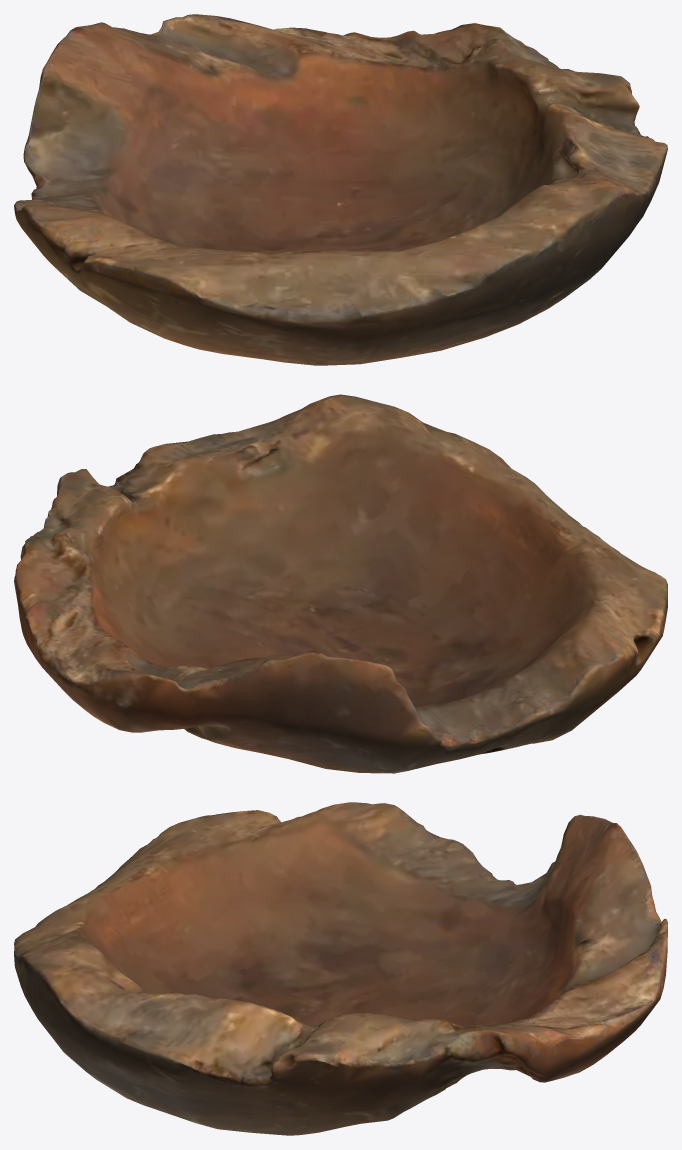
Rendered from wooden_bowl_01.glb.
The picture shows the model from 3 angles, top to bottom: view 1: azimuth 30°, elevation 25°; view 2: azimuth 150°, elevation 25°; view 3: azimuth 270°, elevation 25°; orthographic projection. The views are drawn at different scales.
Visible parts, largest first — view 1: wooden_bowl_01; view 2: wooden_bowl_01; view 3: wooden_bowl_01.
Boxes of the visible parts, <box> form: wooden_bowl_01: <box>14,14,667,365</box>; wooden_bowl_01: <box>14,394,667,773</box>; wooden_bowl_01: <box>14,802,667,1135</box>.
Bounding box in the file's own units: 0.313 × 0.0937 × 0.309.
Materials: 1 (1 with a texture image).
